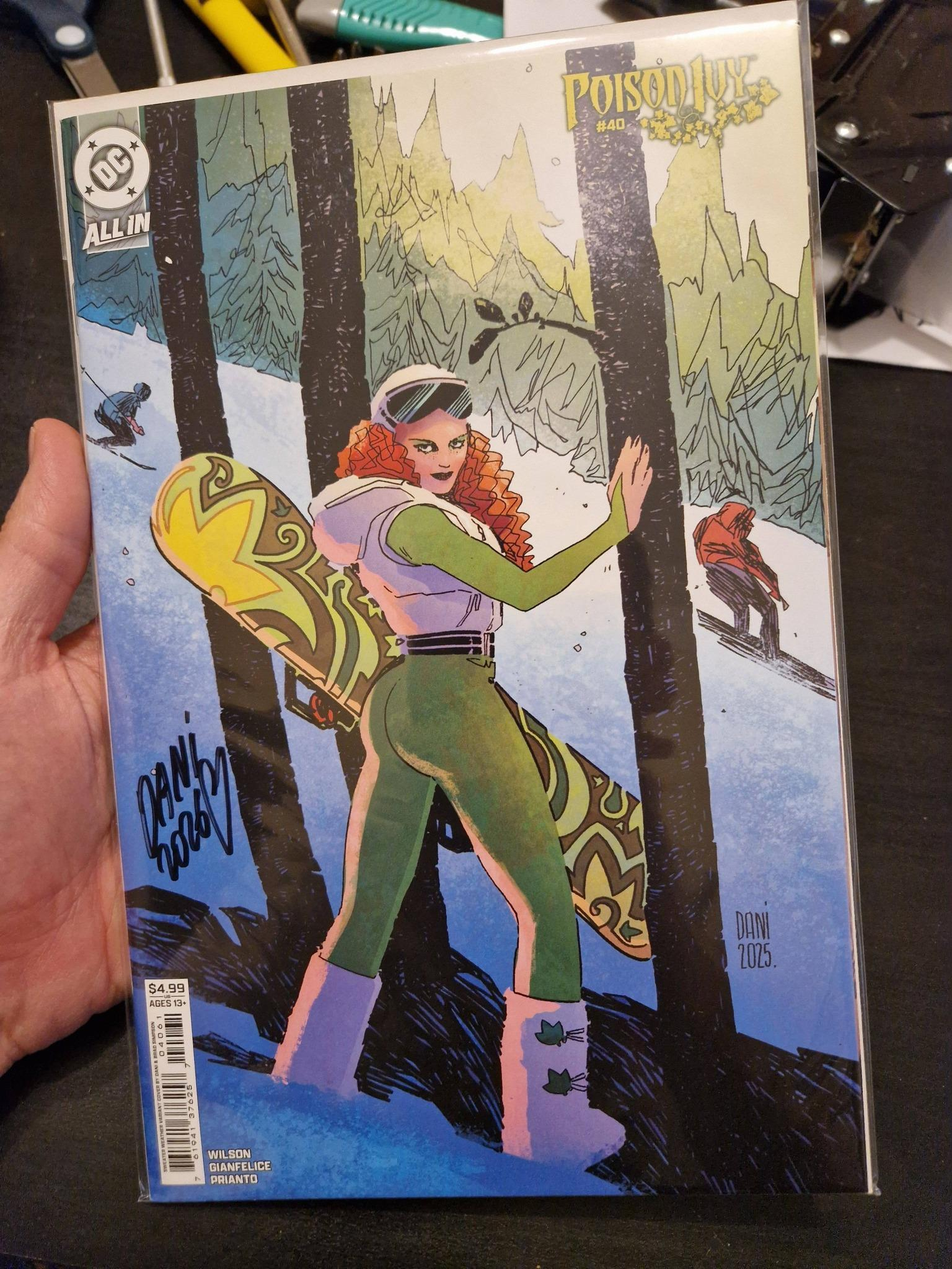comic: (49, 1, 898, 1249)
